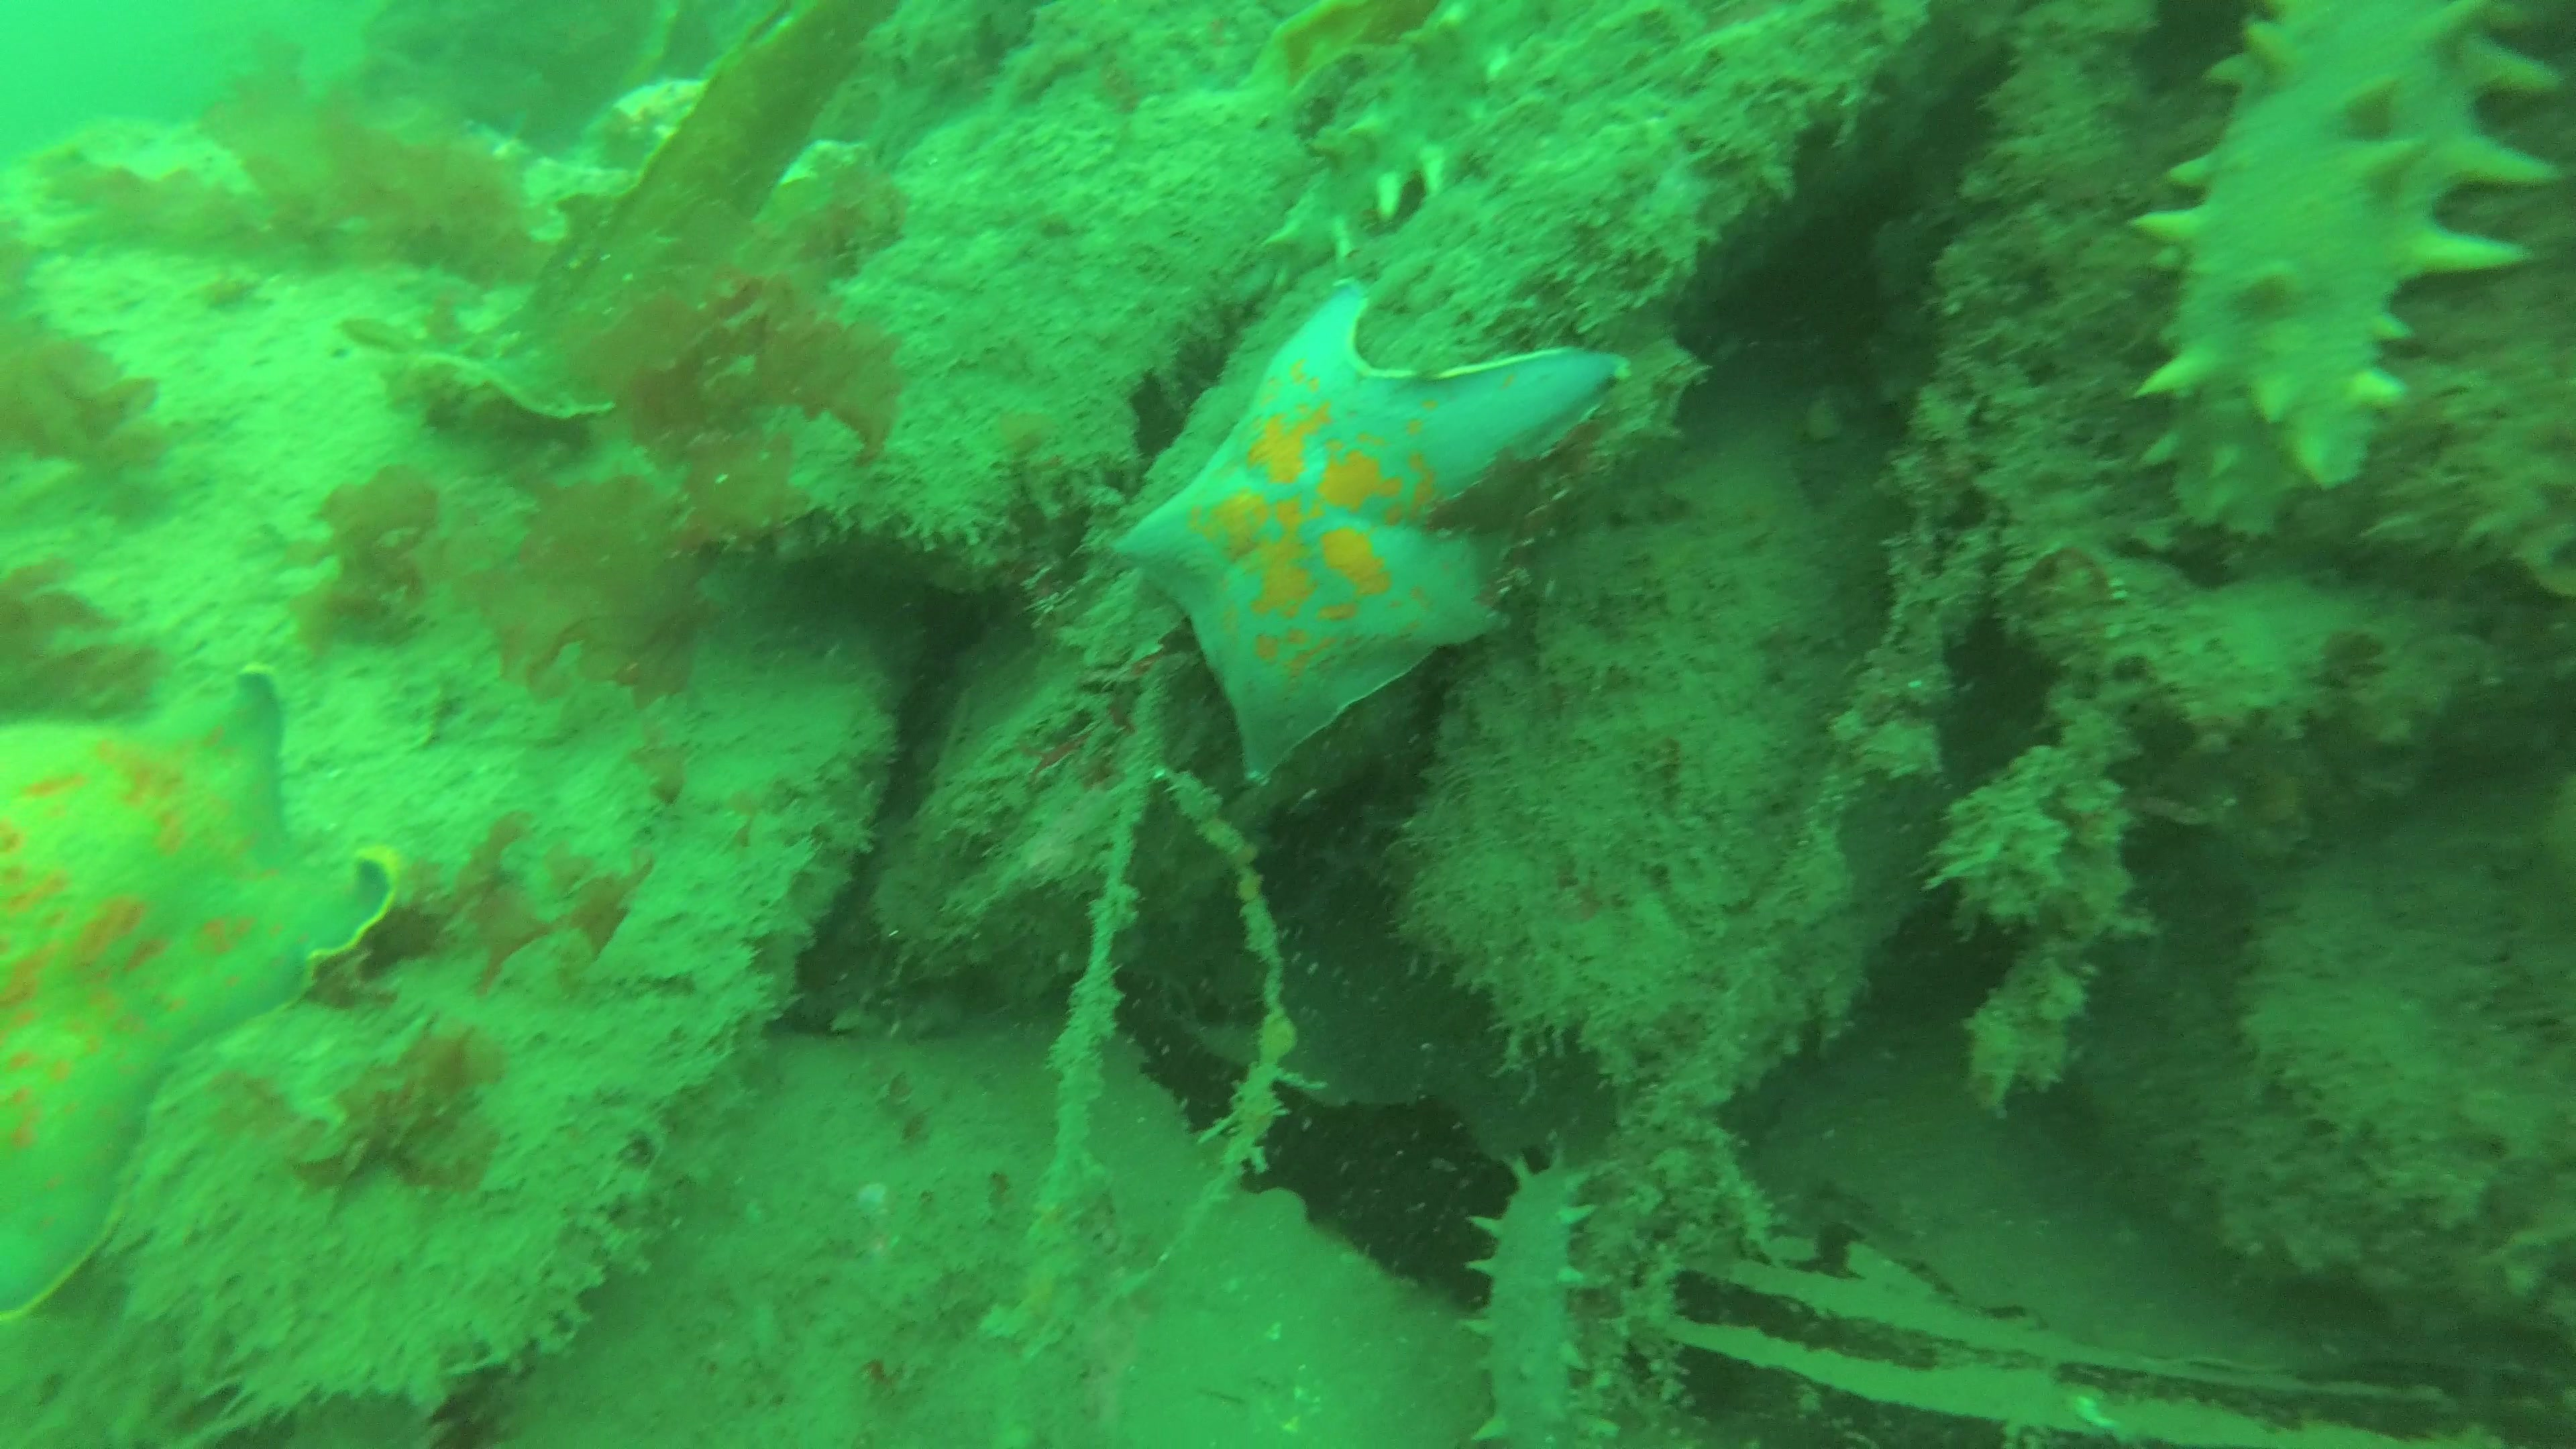holothurian: (2132, 0, 2562, 518), (1265, 0, 1543, 264), (1468, 1157, 1605, 1449)
starfish: (1111, 285, 1635, 791), (0, 672, 403, 1327)
